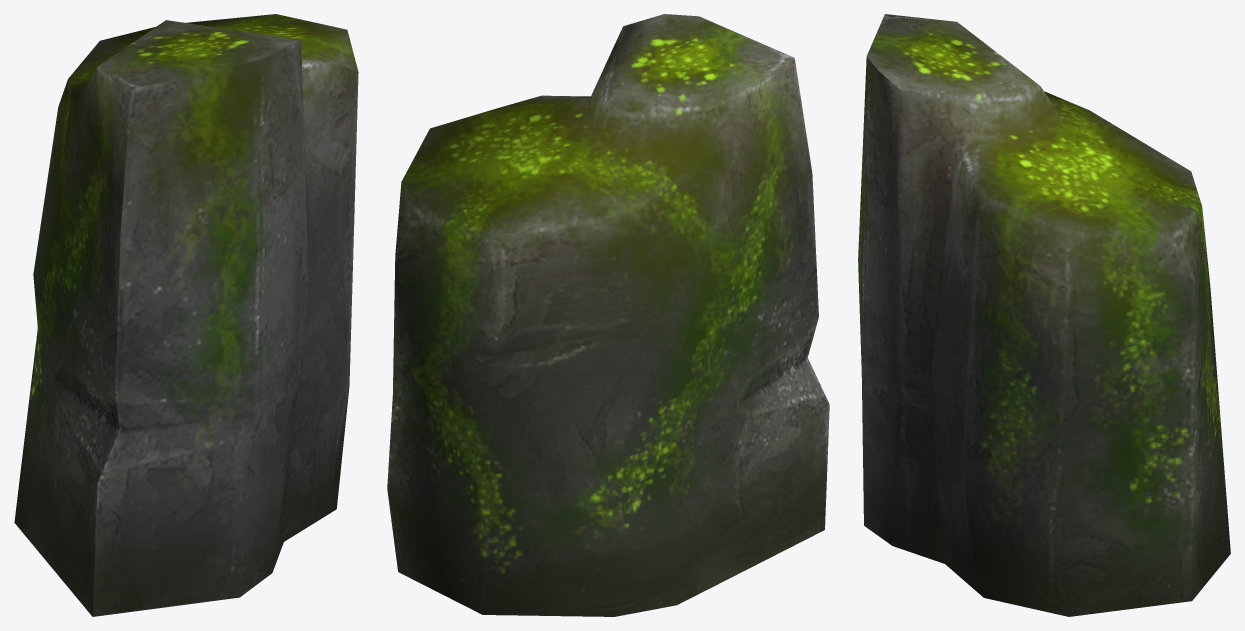
File: rock7.fbx
The picture shows the model from 3 angles, left to right: view 1: azimuth 30°, elevation 25°; view 2: azimuth 150°, elevation 25°; view 3: azimuth 270°, elevation 25°; orthographic projection. The views are drawn at different scales.
Parts seen in each view (by area): view 1: rocks1_6; view 2: rocks1_6; view 3: rocks1_6.
Part boxes in pixels (x1=…): rocks1_6: x1=14, y1=14, x2=358, y2=616; rocks1_6: x1=387, y1=14, x2=829, y2=616; rocks1_6: x1=858, y1=14, x2=1230, y2=616.
Size of the model in its own units: 297 by 427 by 299.
